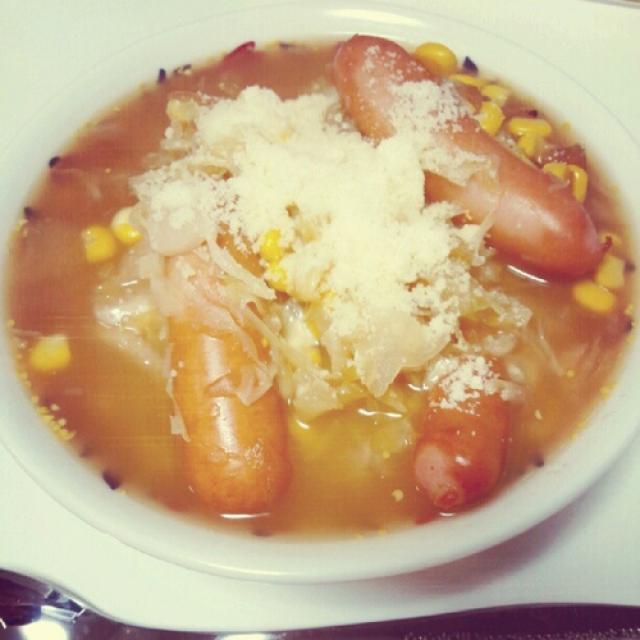汤锅炖物: (18, 26, 616, 584)
